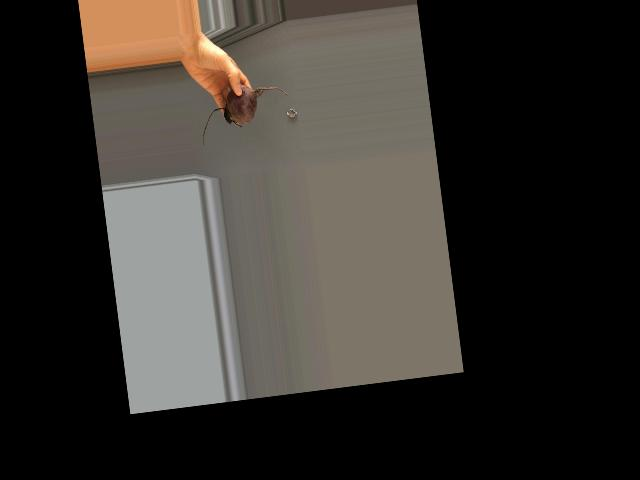beet: (196, 79, 292, 146)
